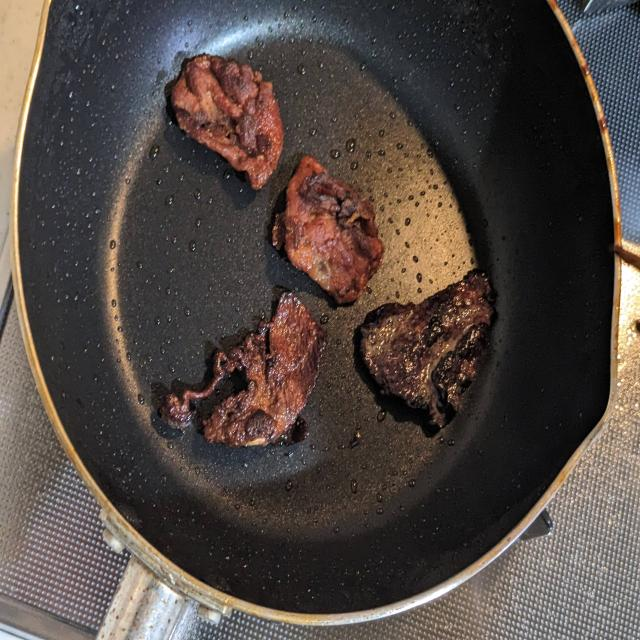overcooked beef,: (149, 288, 330, 455), (350, 259, 499, 450)
overcooked pork: (270, 146, 388, 316), (166, 48, 291, 194)
